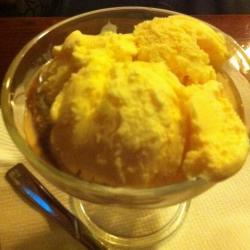icecream: (43, 16, 243, 181)
